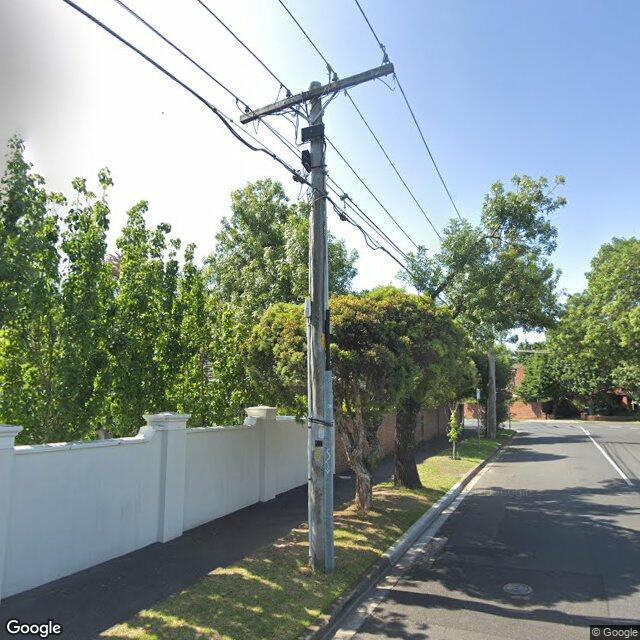crossarm: (241, 62, 393, 123)
timber-pole: (309, 81, 328, 575), (486, 323, 496, 439)
